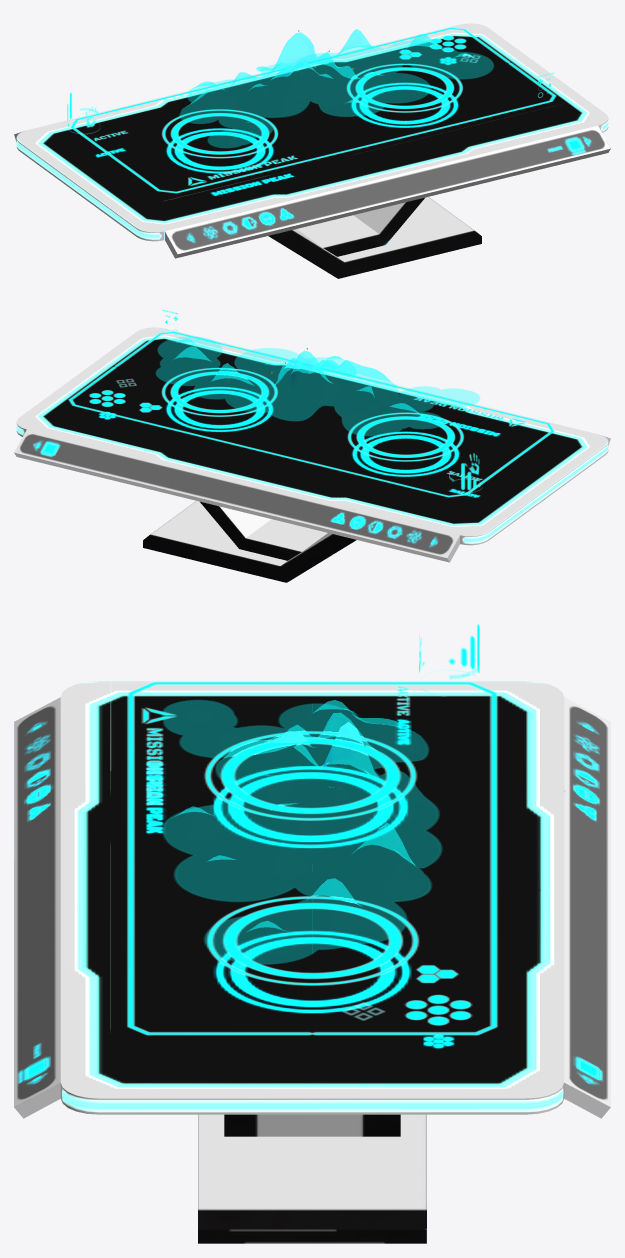
File: table.glb
3 renders of one model, top to bottom at view 1: azimuth 30°, elevation 25°; view 2: azimuth 150°, elevation 25°; view 3: azimuth 270°, elevation 25°, orthographic. The views are drawn at different scales.
Visible parts, largest first — view 1: polySurface1, polySurface3, polySurface2, pPlane7, pPlane8, pCylinder1; view 2: polySurface1, polySurface3, polySurface2, pPlane7, pPlane8, pCylinder1; view 3: polySurface1, polySurface3, pPlane7, polySurface2, pPlane8, pCylinder1.
Boxes of the visible parts, left/top/right/bottom form: polySurface1: left=14, top=23, right=610, bottom=258; polySurface3: left=179, top=29, right=493, bottom=147; polySurface2: left=70, top=27, right=556, bottom=198; pPlane7: left=268, top=197, right=481, bottom=278; pPlane8: left=297, top=197, right=424, bottom=256; pCylinder1: left=67, top=92, right=99, bottom=134; polySurface1: left=14, top=327, right=610, bottom=562; polySurface3: left=156, top=336, right=479, bottom=435; polySurface2: left=68, top=331, right=557, bottom=497; pPlane7: left=143, top=501, right=356, bottom=582; pPlane8: left=200, top=501, right=327, bottom=560; pCylinder1: left=449, top=453, right=481, bottom=493; polySurface1: left=14, top=681, right=610, bottom=1118; polySurface3: left=162, top=700, right=441, bottom=964; pPlane7: left=198, top=1114, right=426, bottom=1243; polySurface2: left=110, top=676, right=497, bottom=1035; pPlane8: left=224, top=1114, right=400, bottom=1136; pCylinder1: left=419, top=624, right=479, bottom=696.
Bounding box in the file's own units: 0.1555 × 0.0695 × 0.094.
Materials: 1 (1 with a texture image).
